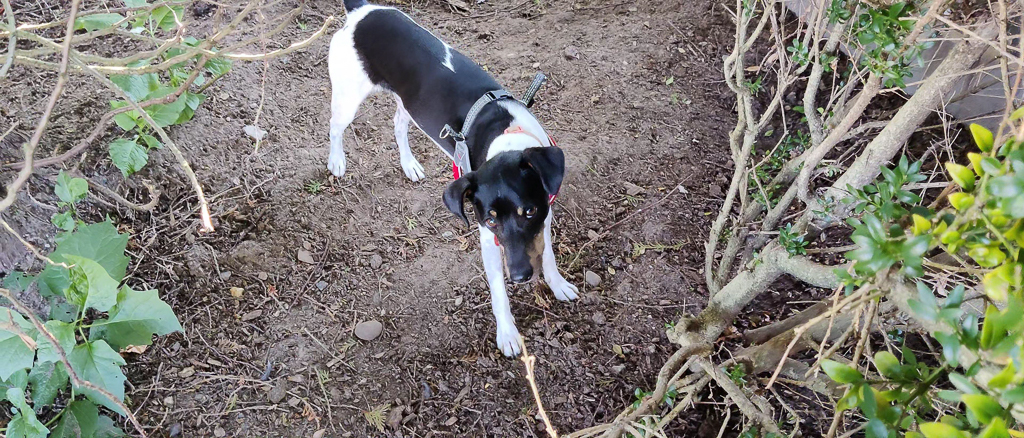Dog: (316, 0, 603, 370)
